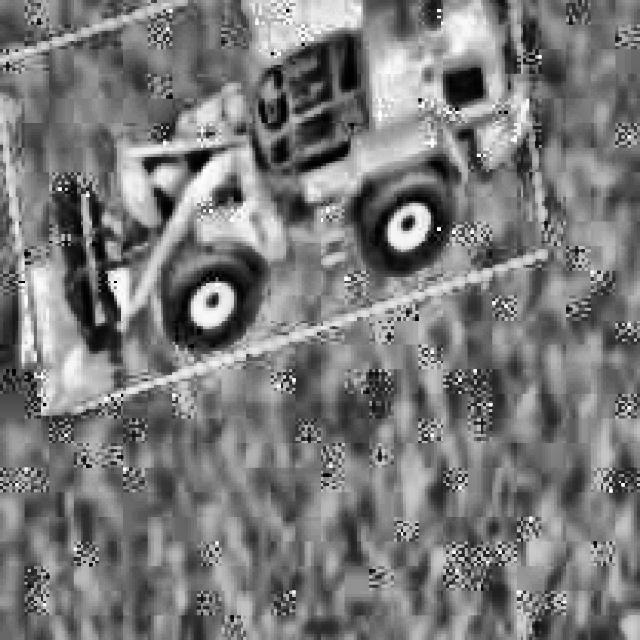buldozerpayloadergrader: (0, 0, 545, 363)
